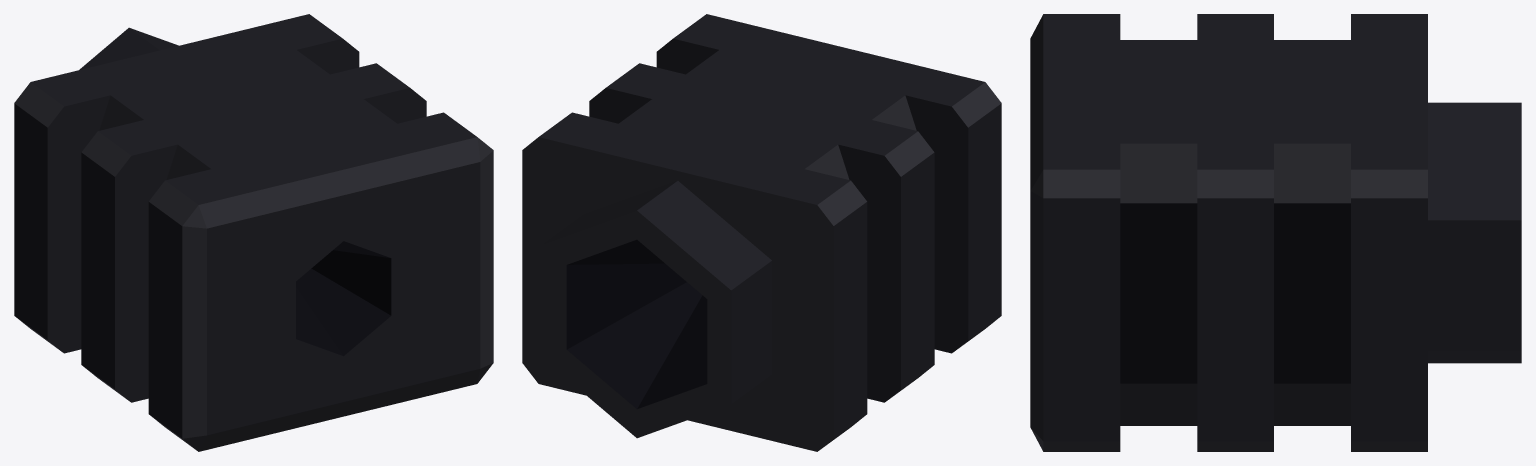
File: MW1_MuzzleDevice_9mm_03.fbx
3 renders of one model, left to right at view 1: azimuth 30°, elevation 25°; view 2: azimuth 150°, elevation 25°; view 3: azimuth 270°, elevation 25°, orthographic. The views are drawn at different scales.
Visible parts, largest first — view 1: MuzzleDevice_9mm_03; view 2: MuzzleDevice_9mm_03; view 3: MuzzleDevice_9mm_03.
Boxes of the visible parts, x1,y1,x2,y2 form: MuzzleDevice_9mm_03: [14, 14, 493, 451]; MuzzleDevice_9mm_03: [522, 14, 1001, 451]; MuzzleDevice_9mm_03: [1030, 14, 1521, 451].
Bounding box in the file's own units: 2.55 × 1.93 × 3.04.
